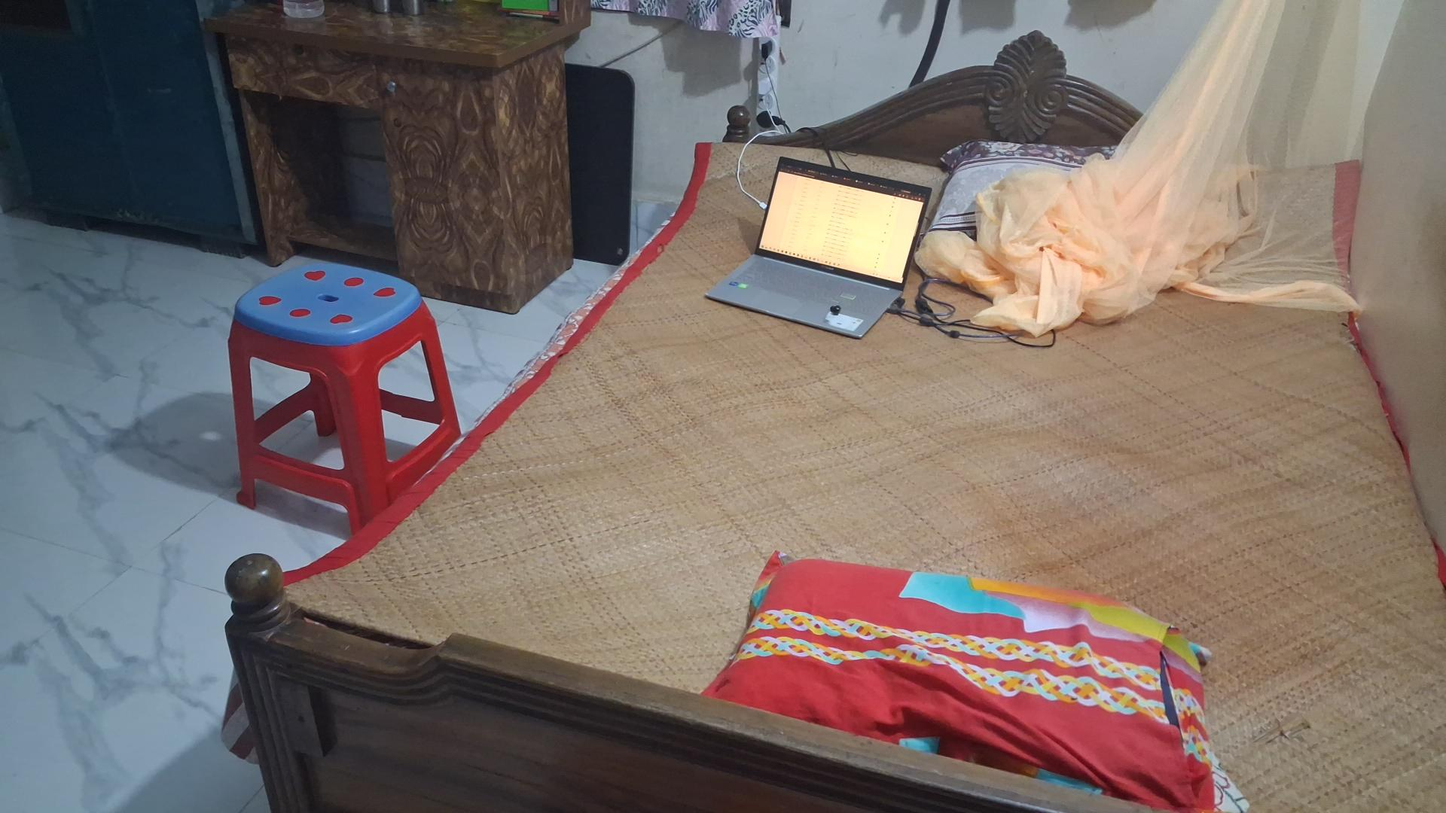Laptop: (704, 152, 947, 340)
Pillow: (702, 546, 1248, 813)
Stool: (227, 256, 463, 539)
